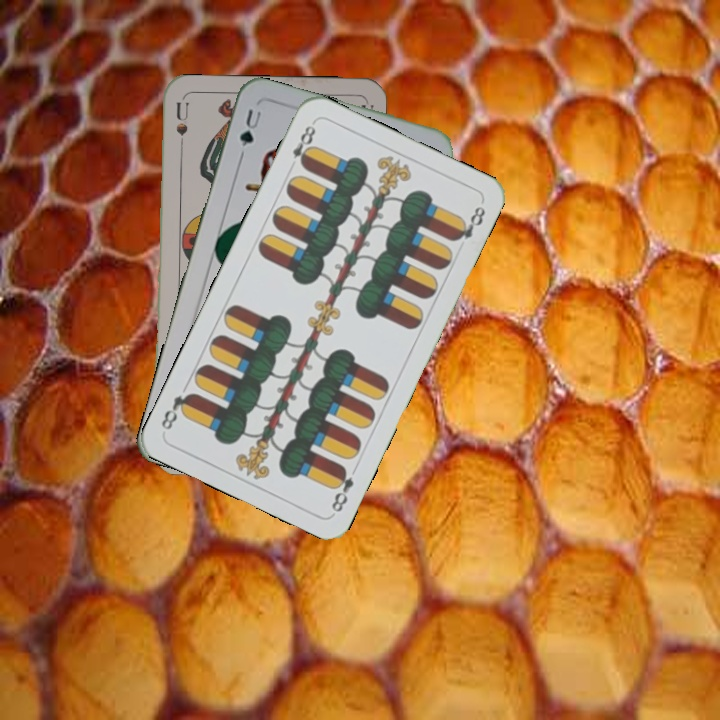E8: (284, 118, 319, 173), (327, 462, 357, 515)
GU: (235, 105, 264, 149)
SU: (172, 99, 192, 138)
